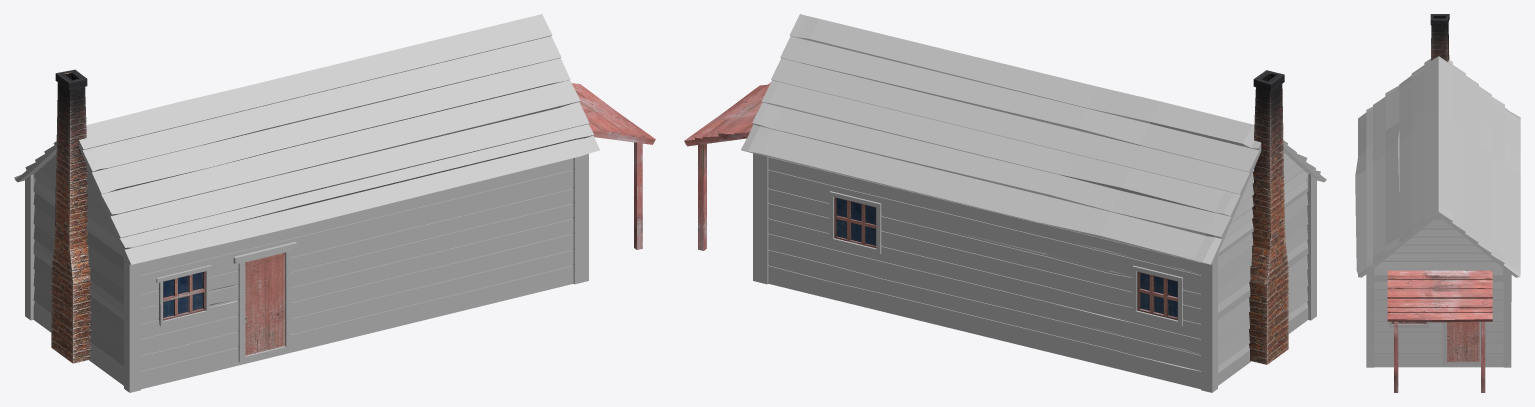
The model's file is GenericHouseRedo3.fbx.
3 renders of one model, left to right at view 1: azimuth 30°, elevation 25°; view 2: azimuth 150°, elevation 25°; view 3: azimuth 270°, elevation 25°, orthographic. The views are drawn at different scales.
Visible parts, largest first — view 1: JenkinslHouseNorthLoPoly, Chimney001, Door, Porch, Windowpanes; view 2: JenkinslHouseNorthLoPoly, Chimney001, Windowpanes, Porch; view 3: JenkinslHouseNorthLoPoly, Porch, Door001, Chimney001, BacKDoorFrame, JenkinslHouseNorthLoPoly001.
Part boxes in pixels (x1=…): JenkinslHouseNorthLoPoly: x1=14, y1=14, x2=599, y2=392; Chimney001: x1=51, y1=69, x2=91, y2=363; Door: x1=245, y1=252, x2=284, y2=355; Porch: x1=571, y1=83, x2=655, y2=249; Windowpanes: x1=163, y1=271, x2=205, y2=320; JenkinslHouseNorthLoPoly: x1=741, y1=14, x2=1326, y2=392; Chimney001: x1=1249, y1=70, x2=1288, y2=364; Windowpanes: x1=834, y1=197, x2=1177, y2=320; Porch: x1=684, y1=82, x2=770, y2=250; JenkinslHouseNorthLoPoly: x1=1355, y1=56, x2=1520, y2=367; Porch: x1=1387, y1=270, x2=1492, y2=392; Door001: x1=1447, y1=321, x2=1479, y2=361; Chimney001: x1=1430, y1=14, x2=1449, y2=61; BacKDoorFrame: x1=1442, y1=321, x2=1480, y2=364; JenkinslHouseNorthLoPoly001: x1=1387, y1=294, x2=1428, y2=327.
Size of the model in its own units: 374 by 139 by 179.
